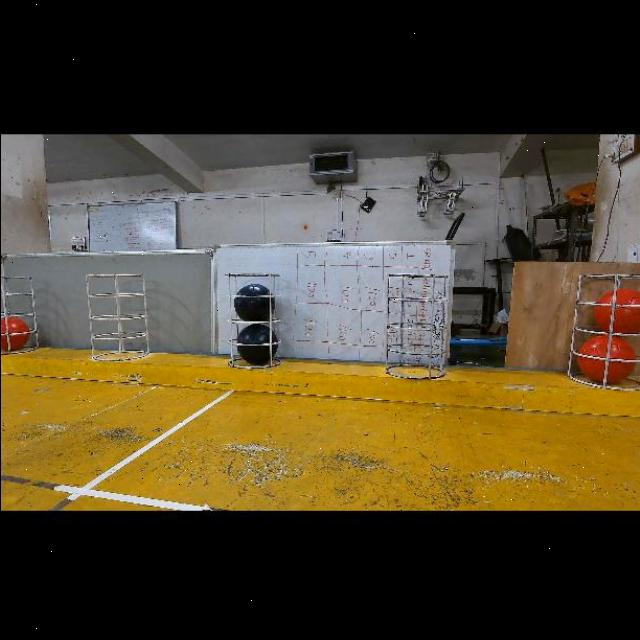P: (236, 321, 278, 362), (233, 280, 274, 319)
R: (577, 336, 636, 383), (593, 287, 640, 332), (0, 313, 29, 347)
S: (570, 263, 640, 383), (379, 272, 456, 381), (80, 264, 154, 360), (220, 262, 280, 366), (1, 269, 44, 353)
